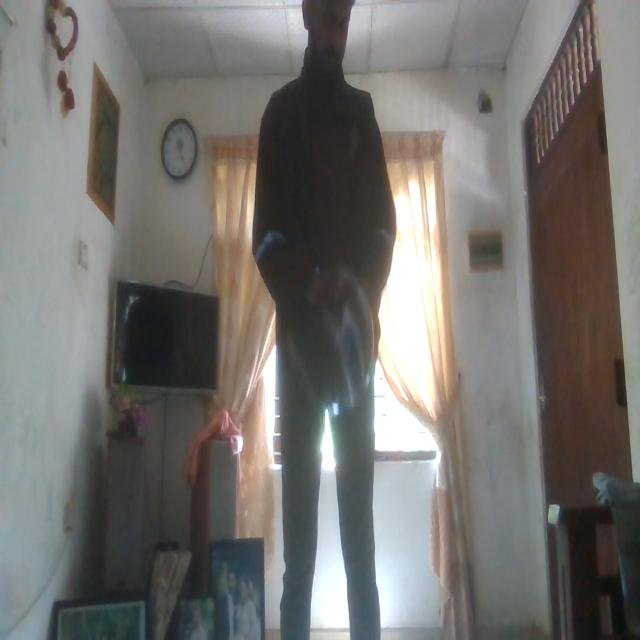Jacket_Wearer: (250, 71, 400, 417)
Person: (244, 1, 396, 640)
